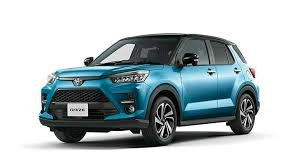mobil: (36, 31, 260, 151)
